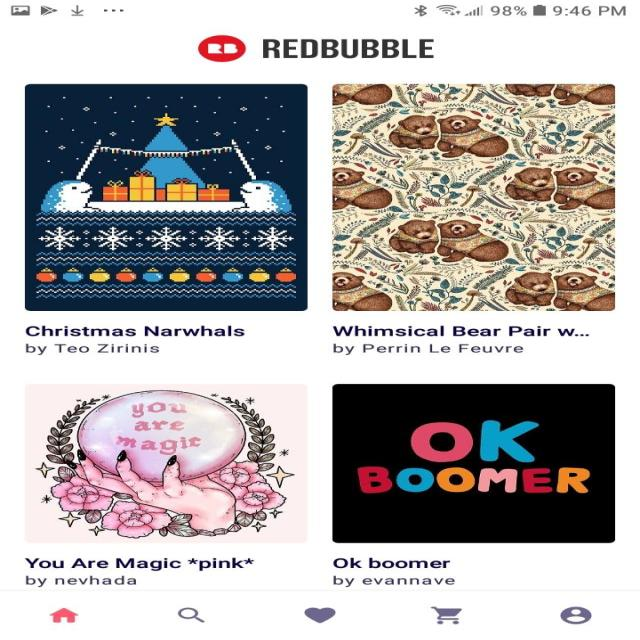Icon: (558, 605, 591, 624), (429, 606, 462, 624), (304, 607, 336, 623), (50, 607, 80, 622), (177, 607, 204, 622)
Image: (24, 83, 308, 311), (332, 83, 614, 311), (332, 383, 616, 542), (24, 383, 308, 542), (198, 35, 246, 62)
Text: (332, 325, 588, 355), (23, 557, 254, 587), (23, 324, 245, 355), (332, 556, 454, 587), (262, 38, 434, 58)
